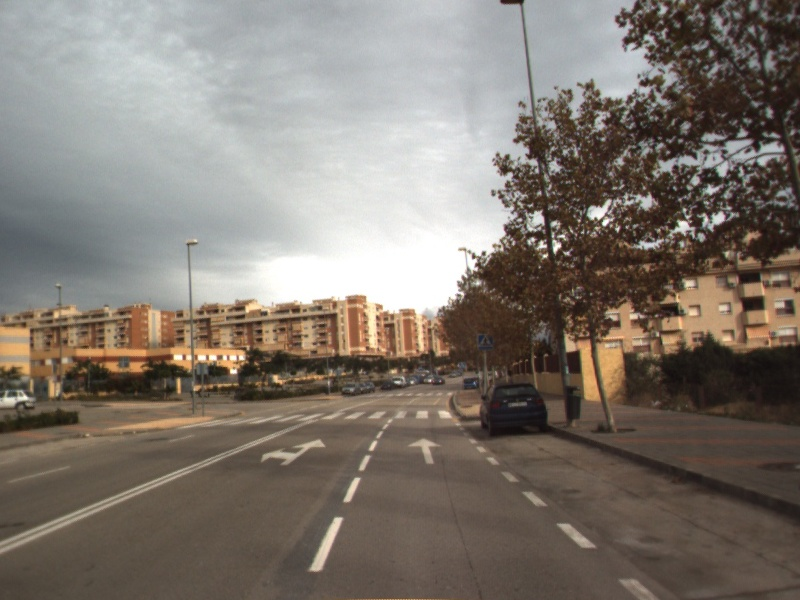STRAIGHT: (406, 436, 444, 466)
STRAIGHT_LEFT: (259, 437, 328, 467)
